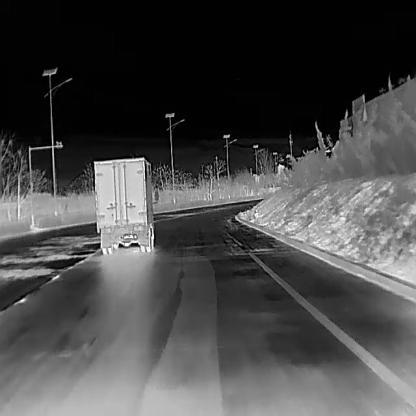car: (92, 155, 159, 255)
